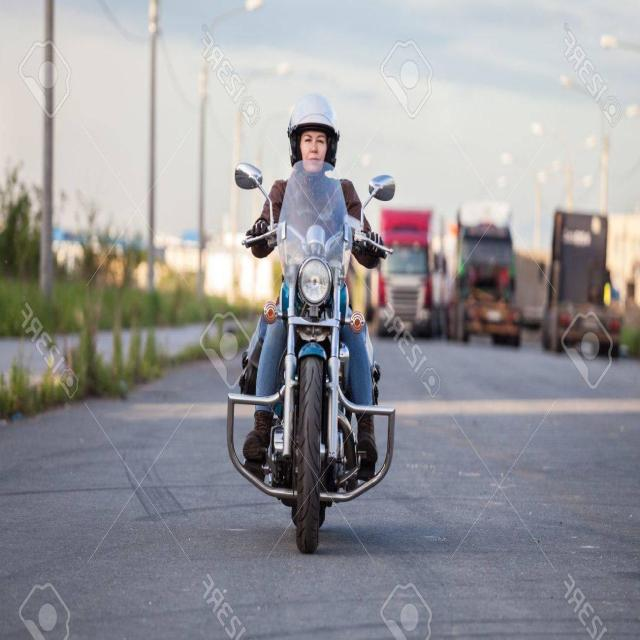helmet: (283, 95, 343, 168)
